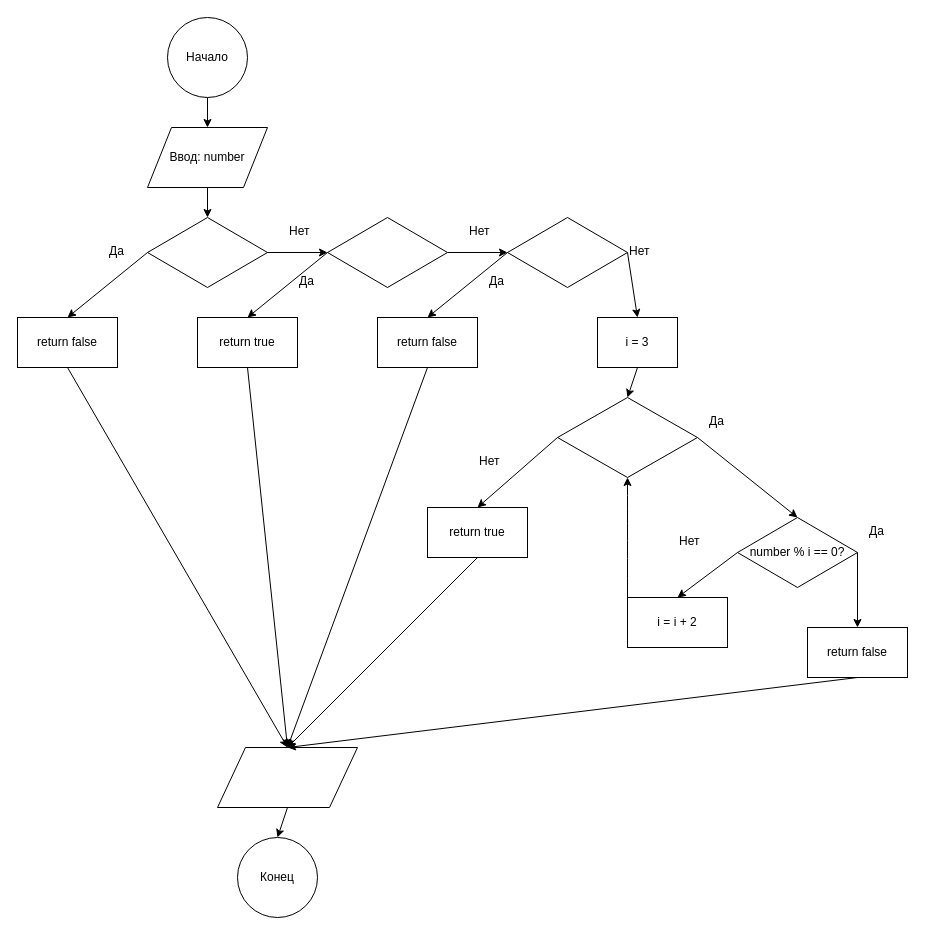
Some shapes in this 925 by 935 pixel diagram are drawn without their labels. The centre of each missing label's shape, as x and y in pixels:
i <= sqrt(number)?: [627,437]
number % 2 == 0?: [567,252]
number < 2?: [207,252]
number == 2?: [387,252]
Вывод результата: [287,777]
